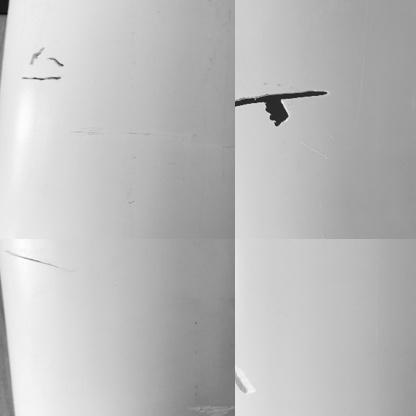fengxi: (232, 91, 342, 103), (26, 43, 44, 64), (22, 73, 64, 82), (48, 55, 63, 68)
kongdong: (260, 101, 290, 127)
sunshang: (4, 244, 63, 273), (231, 365, 255, 396)
